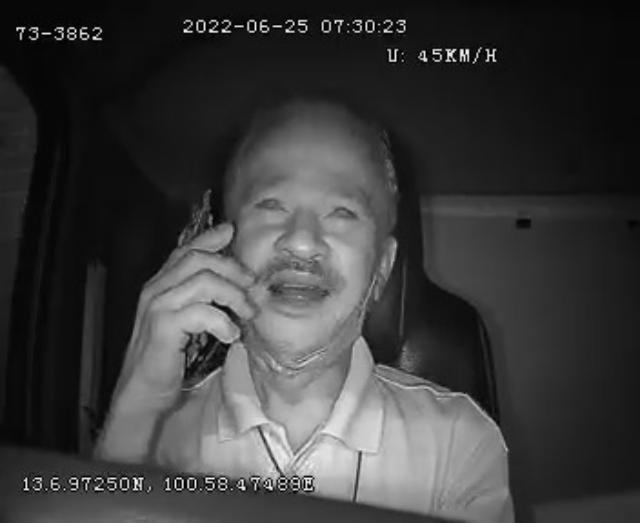PhoneUse: (173, 186, 233, 380)
SafeDriving: (315, 188, 368, 234), (248, 182, 294, 222)
